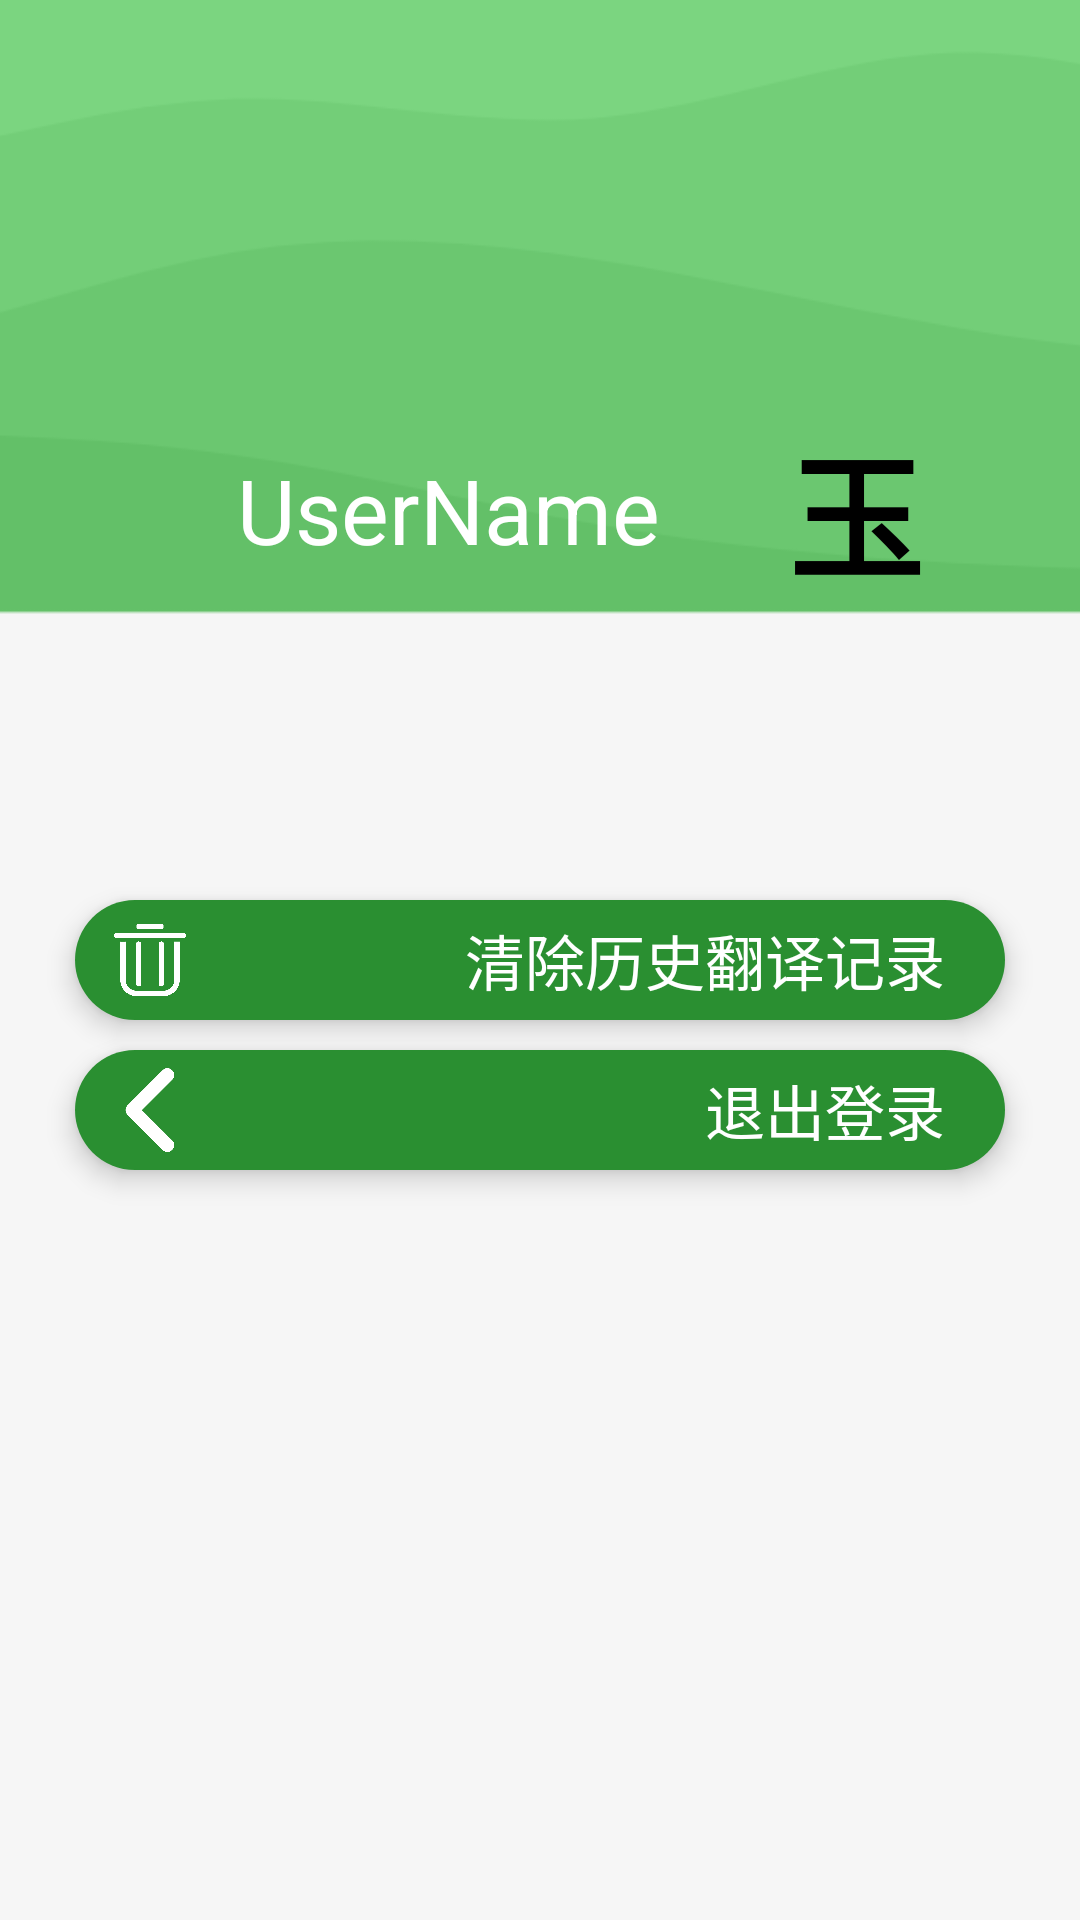

Named icons in this screenshot (1080x1920) and their bounding boxes, (x1, y1, x2, y2):
back: (125, 1068, 174, 1152)
del: (114, 924, 186, 996)
